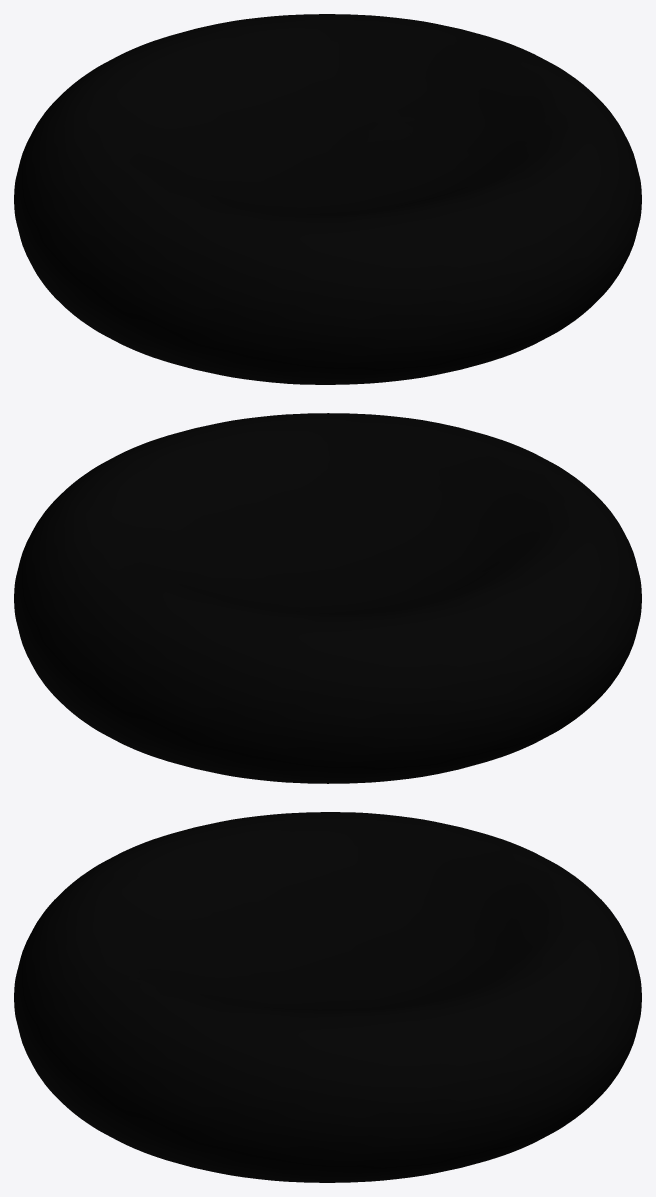
File: final_baked_FIXED.glb
The picture shows the model from 3 angles, top to bottom: view 1: azimuth 30°, elevation 25°; view 2: azimuth 150°, elevation 25°; view 3: azimuth 270°, elevation 25°; orthographic projection.
Parts seen in each view (by area): view 1: BloodCell_geometry.005; view 2: BloodCell_geometry.005; view 3: BloodCell_geometry.005.
Part boxes in pixels (x1=…): BloodCell_geometry.005: x1=14, y1=14, x2=641, y2=384; BloodCell_geometry.005: x1=14, y1=413, x2=641, y2=783; BloodCell_geometry.005: x1=14, y1=812, x2=641, y2=1182.
Bounding box in the file's own units: 2.62 × 0.734 × 2.62.
2 materials, 2 textured.
